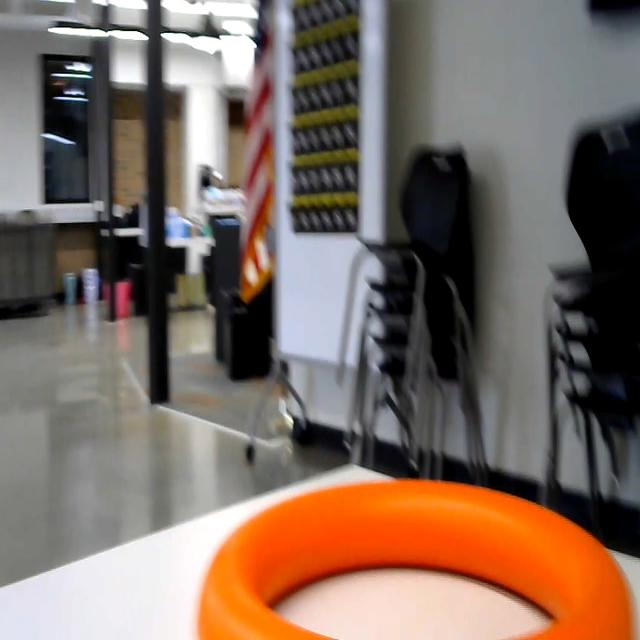note: (192, 467, 640, 640)
